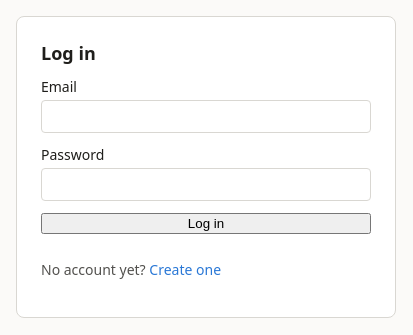
LoginGate › tells a disabled account so
In the field labelled "Email": (206, 116) left=41, top=100, right=371, bottom=133, type "dee@example.test"
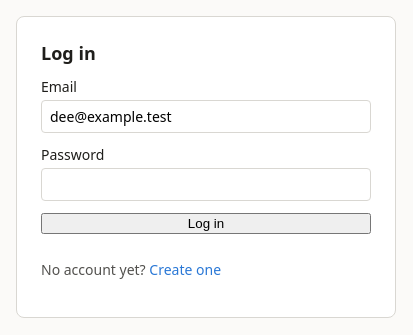
In the password field labelled "Password": (206, 184) left=41, top=168, right=371, bottom=201, type "dee-pass-12"
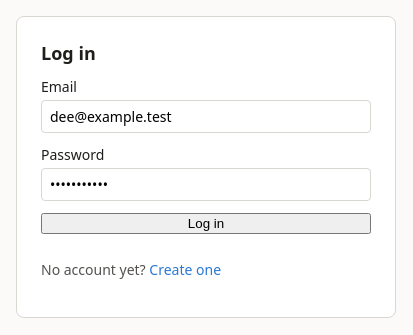
Click the button "Log in": (206, 224) left=41, top=213, right=371, bottom=234
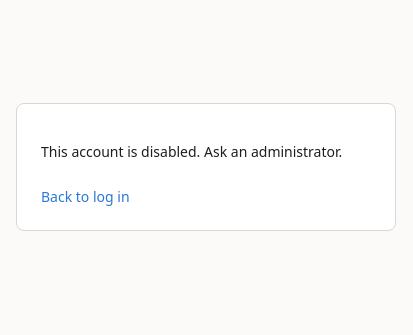
Expected: the message shows "disabled", left=41, top=142, right=342, bottom=161
